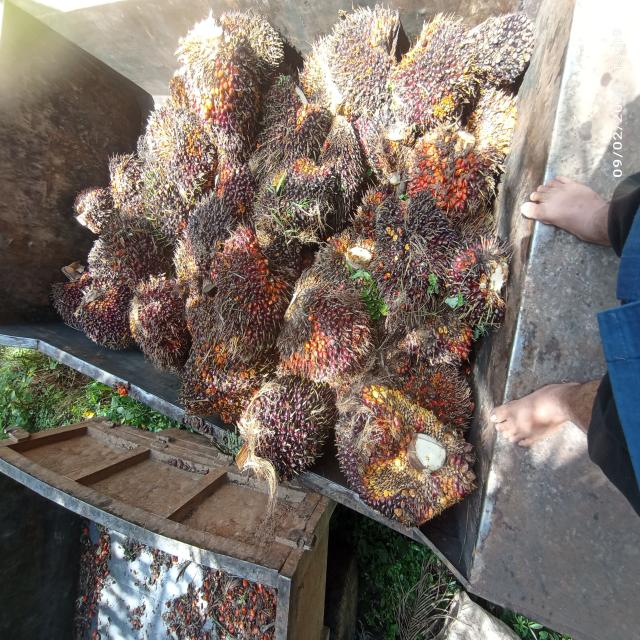fraksi 00: (335, 378, 480, 533), (372, 184, 458, 300), (255, 149, 338, 264), (305, 5, 405, 100), (242, 371, 328, 479), (135, 86, 216, 197), (253, 61, 336, 165), (462, 0, 553, 92), (178, 327, 264, 424), (313, 117, 371, 221), (176, 195, 238, 277), (74, 274, 134, 358), (47, 266, 99, 323)
fraksi 1: (167, 0, 286, 130), (376, 2, 482, 126), (444, 222, 512, 337), (125, 276, 202, 368)
fraksi 3: (274, 263, 371, 391), (200, 222, 298, 342)
fraksi 4: (406, 127, 494, 215)
